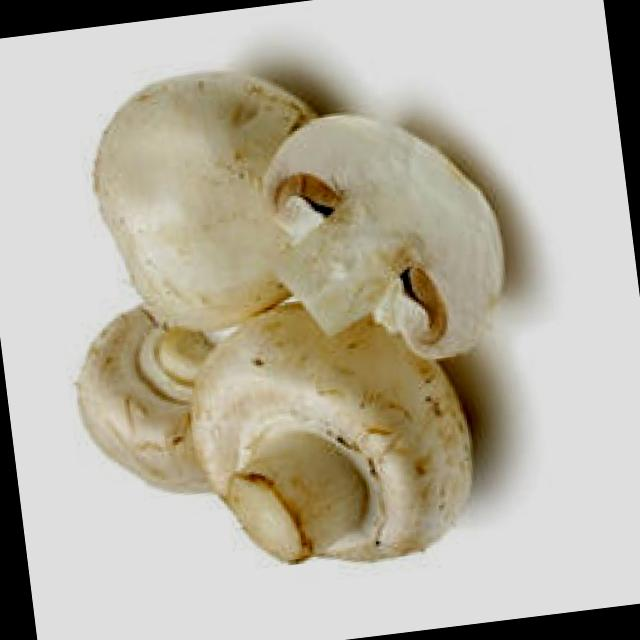Agaricus bisporus: (180, 298, 482, 581), (80, 32, 336, 348), (253, 76, 517, 382), (66, 291, 232, 508)
